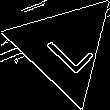L_NW: (35, 18, 94, 76)
